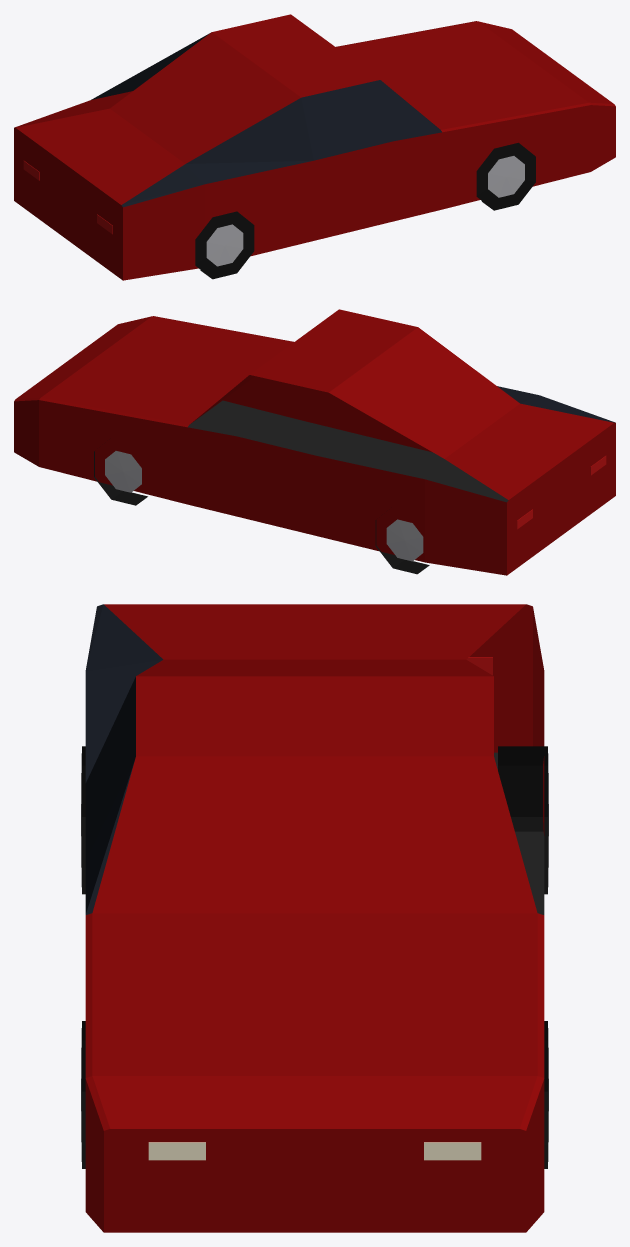
3 renders of one model, top to bottom at view 1: azimuth 30°, elevation 25°; view 2: azimuth 150°, elevation 25°; view 3: azimuth 270°, elevation 25°, orthographic. The views are drawn at different scales.
Parts seen in each view (by area): view 1: car; view 2: car; view 3: car.
Boxes of the visible parts, left/top/right/bottom form: car: left=14, top=14, right=615, bottom=280; car: left=14, top=309, right=615, bottom=575; car: left=81, top=604, right=548, bottom=1232.
Size of the model in its own units: 4.79 by 1.36 by 1.96.
